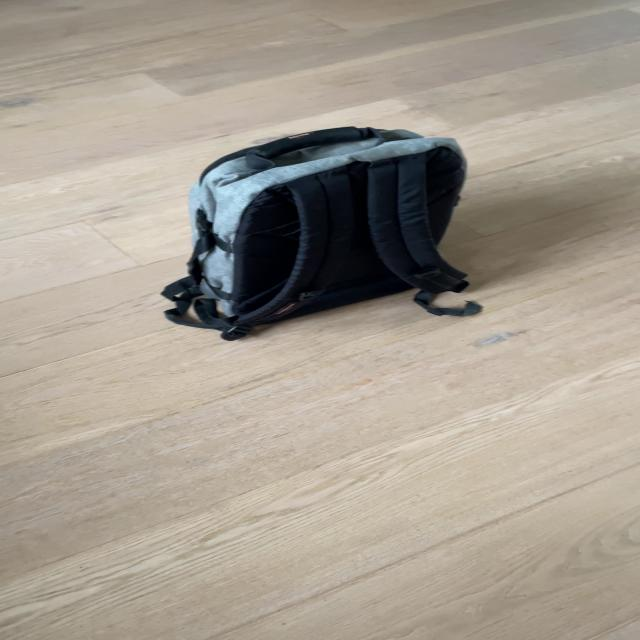backpack: (150, 115, 485, 344)
